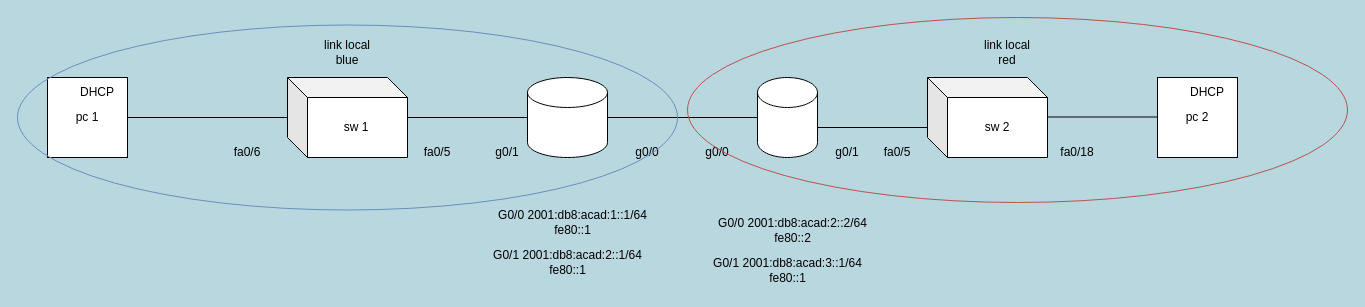
This 1365x307 diagram has some shape labels left out. Here are the shapes that lost their labels. From the top down, the centre of each, then its label:
(567,117): r1
(787,117): r2
